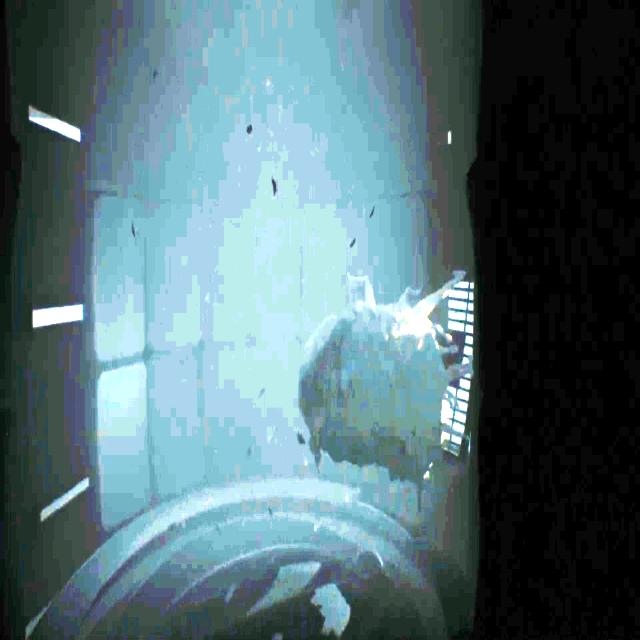blob: (298, 276, 473, 517)
